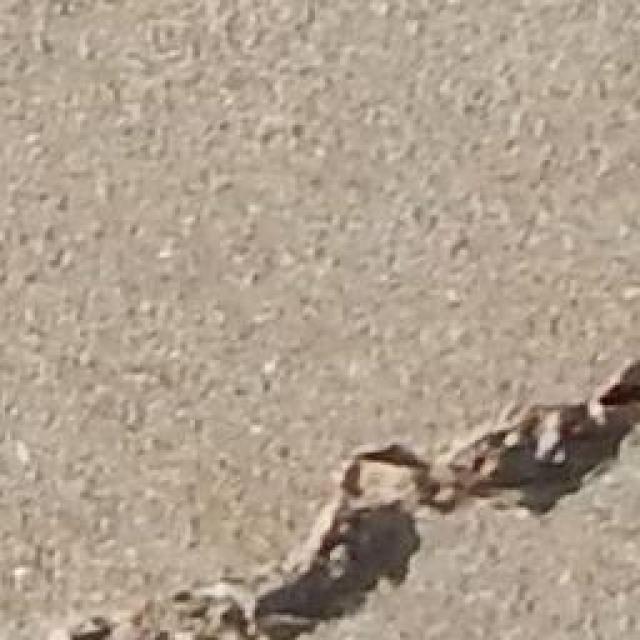concrete-crack: (68, 355, 638, 640)
